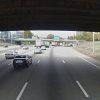Bridge: (4, 14, 97, 39)
